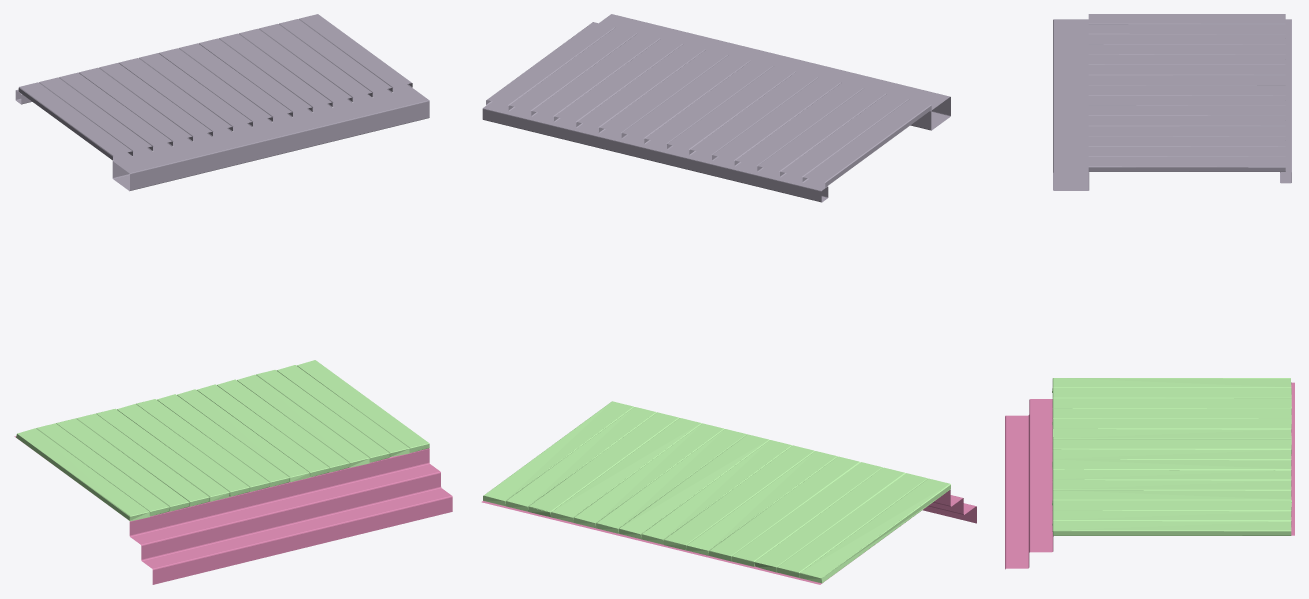
The model's file is SM_House_FrontStairs_A.fbx.
3 renders of one model, left to right at view 1: azimuth 30°, elevation 25°; view 2: azimuth 150°, elevation 25°; view 3: azimuth 270°, elevation 25°, orthographic. The views are drawn at different scales.
Visible parts, largest first — view 1: SM_House_FrontStairs_A; view 2: SM_House_FrontStairs_A; view 3: SM_House_FrontStairs_A.
Part boxes in pixels (x1=…): SM_House_FrontStairs_A: x1=14, y1=14, x2=452, y2=584; SM_House_FrontStairs_A: x1=481, y1=14, x2=976, y2=584; SM_House_FrontStairs_A: x1=1005, y1=14, x2=1294, y2=569.
Size of the model in its own units: 300 by 240 by 382.
